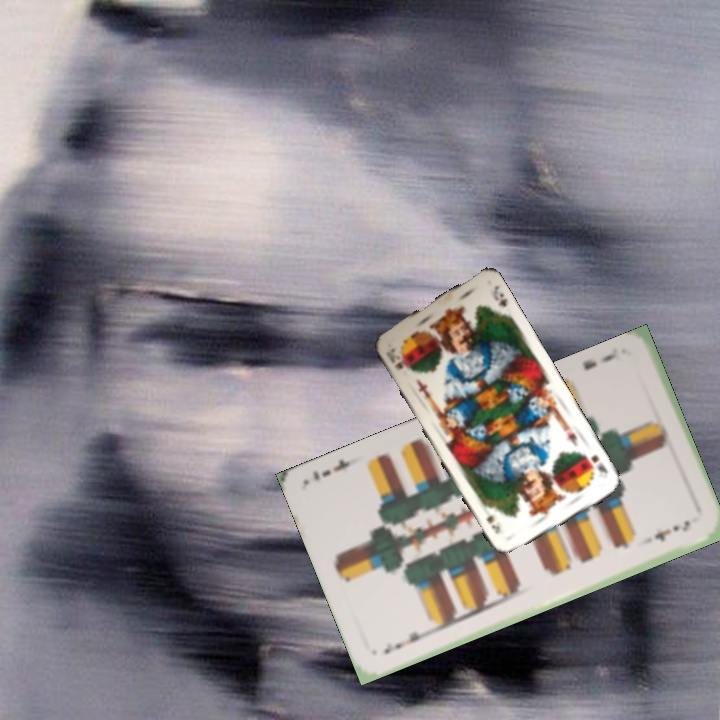E7: (379, 626, 432, 657), (578, 346, 620, 373)
SK: (579, 449, 610, 476), (386, 344, 412, 374)
